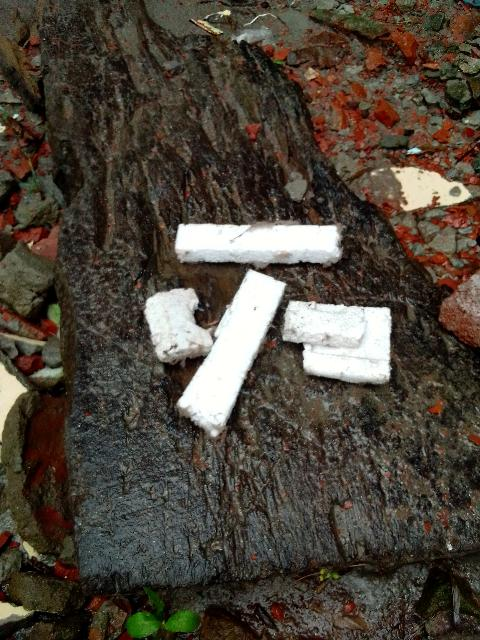cocksheet: (132, 201, 412, 425)
